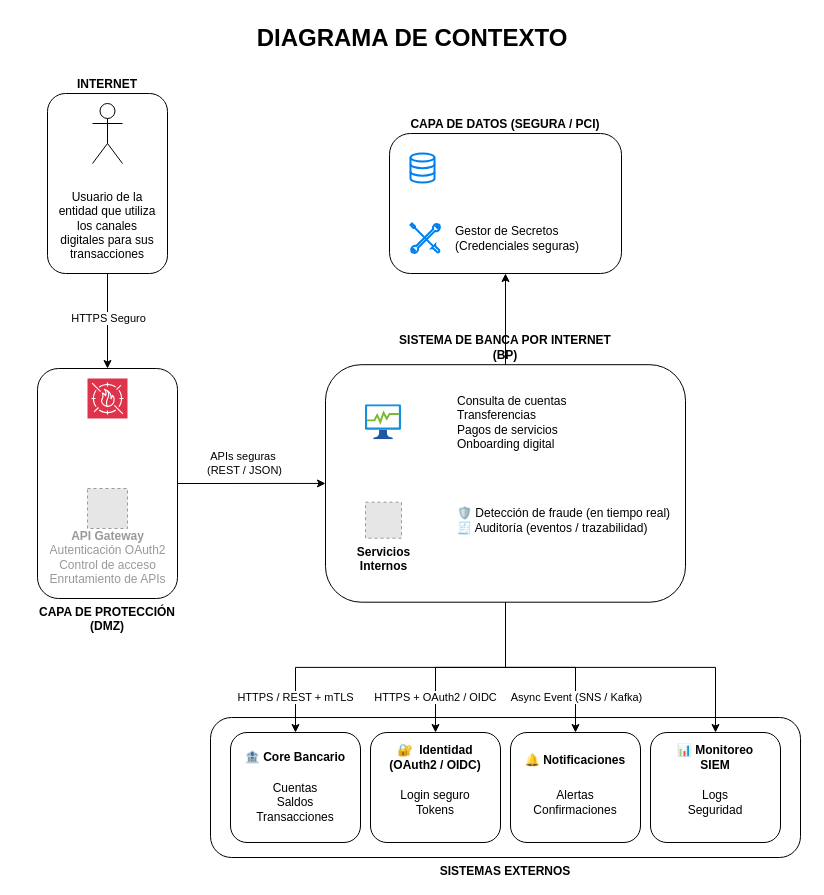
The diagram is 824 pixels wide and 895 high, and some of its shapes have lost their labels. Grey dashed boxes stand in for pictures. The centre of each missing label's shape, as x and y in pixels:
"Base de Datos Transaccional (Cifrada)" goes at point 422,167.
"Cliente" goes at point 107,133.
"Funciones Principales" goes at point 383,421.
"WAF (Firewall de Aplicaciones Web)" goes at point 107,398.
